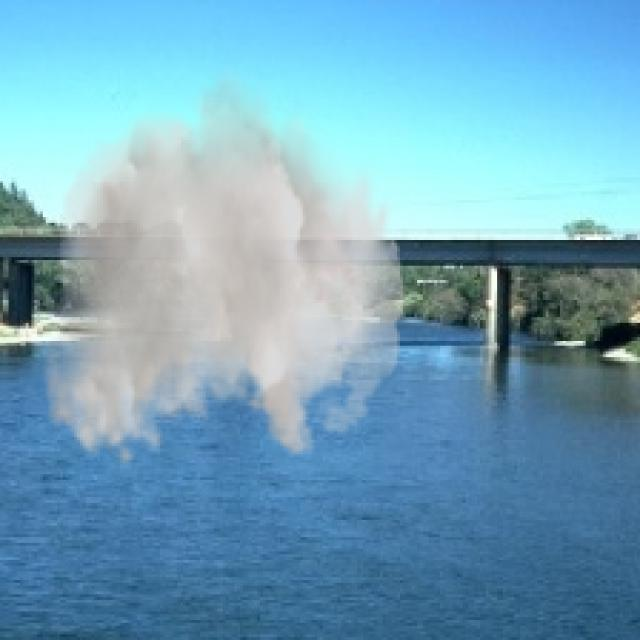smoke: (43, 57, 406, 469)
